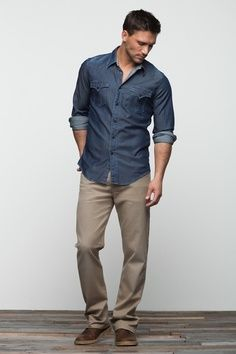NOTSAFE: (79, 8, 163, 185)
